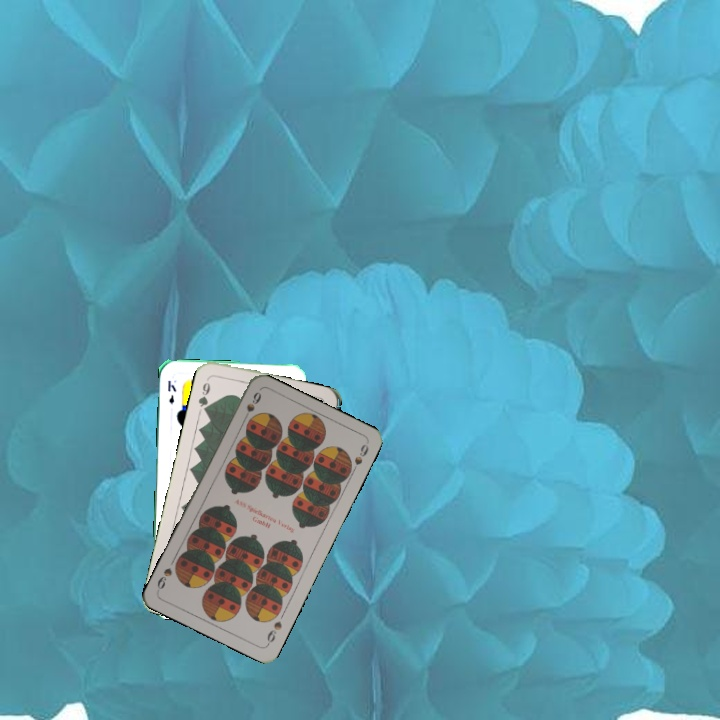EK: (164, 377, 179, 407)
G9: (194, 378, 213, 415)
S9: (238, 388, 264, 425), (263, 617, 285, 648)
